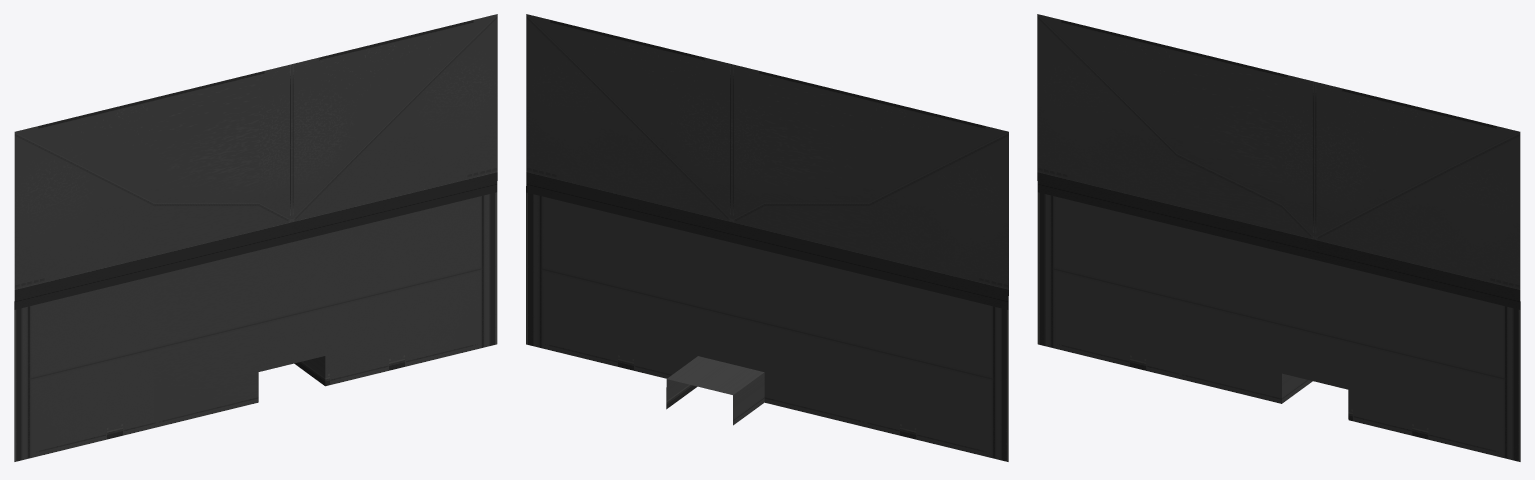
The model's file is Wall2°Room.fbx.
3 views of the same model, side by side, from view 1: azimuth 30°, elevation 25°; view 2: azimuth 150°, elevation 25°; view 3: azimuth 330°, elevation 25° (orthographic).
Parts seen in each view (by area): view 1: Plane.003; view 2: Plane.003; view 3: Plane.003.
Part boxes in pixels (x1=…): Plane.003: x1=14, y1=14, x2=497, y2=461; Plane.003: x1=526, y1=14, x2=1008, y2=461; Plane.003: x1=1037, y1=14, x2=1520, y2=461.
Size of the model in its own units: 726 by 480 by 82.81.
